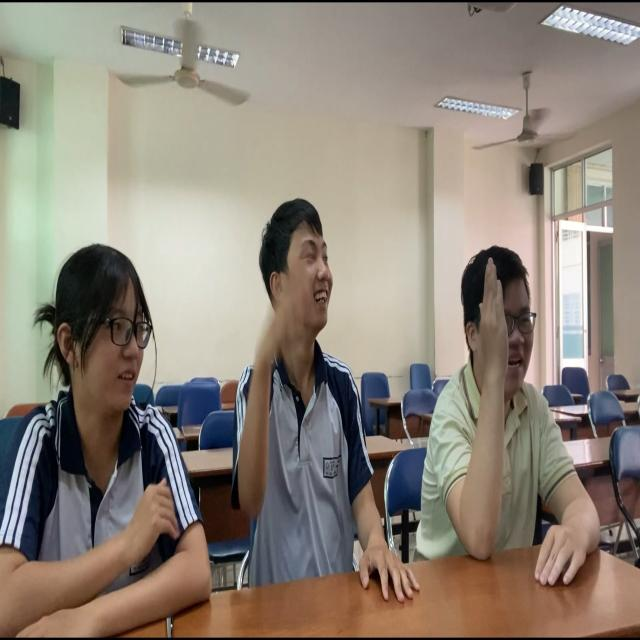raise_hand: (421, 244, 599, 596)
